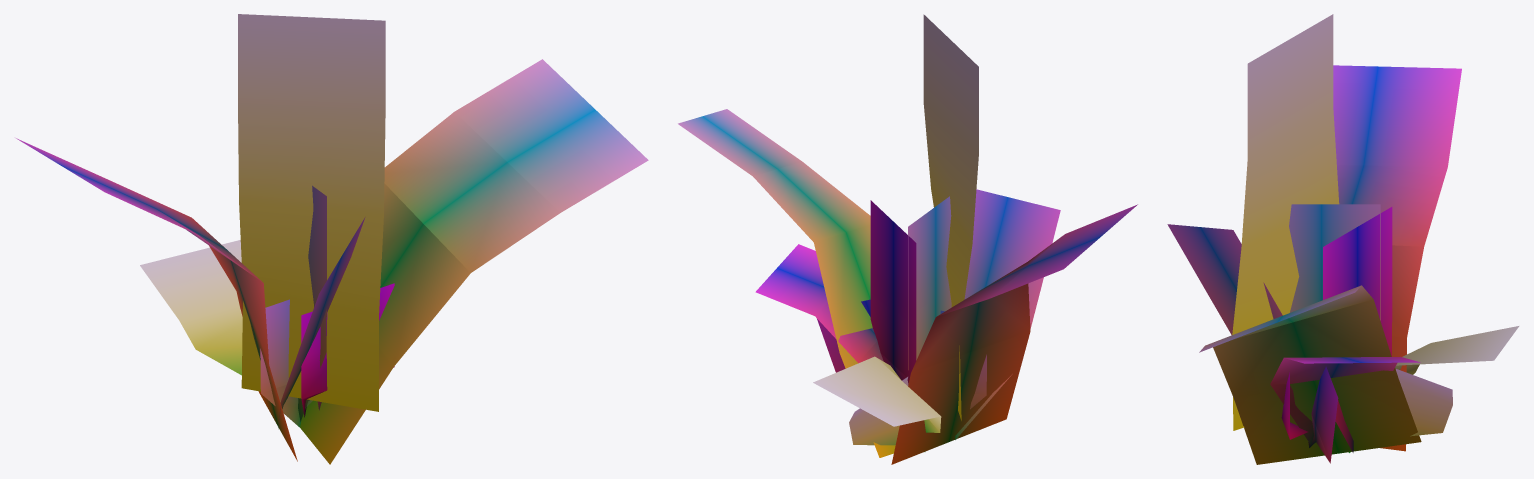
File: fine_filbert_03_4.fbx
3 renders of one model, left to right at view 1: azimuth 30°, elevation 25°; view 2: azimuth 150°, elevation 25°; view 3: azimuth 270°, elevation 25°, orthographic. The views are drawn at different scales.
Parts seen in each view (by area): view 1: fine_filbert_03_4_lod_0; view 2: fine_filbert_03_4_lod_0; view 3: fine_filbert_03_4_lod_0.
Part boxes in pixels (<box>): fine_filbert_03_4_lod_0: <box>16,14,648,464</box>; fine_filbert_03_4_lod_0: <box>678,14,1137,464</box>; fine_filbert_03_4_lod_0: <box>1167,14,1519,464</box>.
Size of what is drawn, in the model's own units: 0.5348 by 0.3337 by 0.4448.
